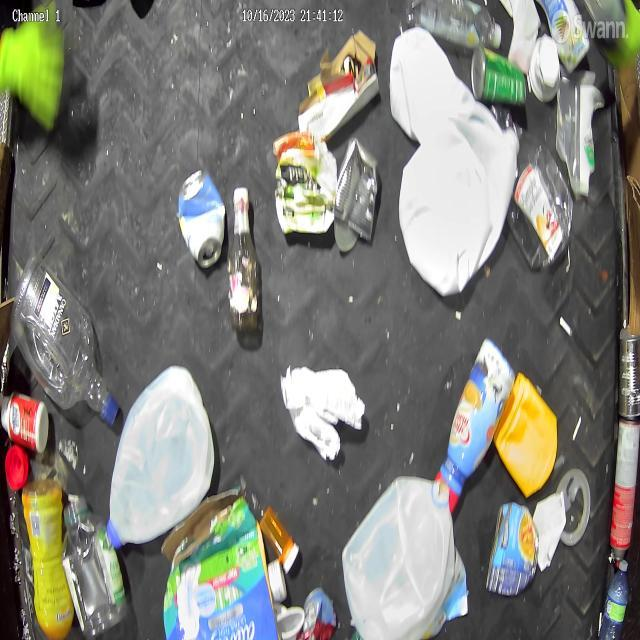can: (332, 136, 380, 256), (486, 502, 540, 597), (177, 167, 226, 269), (470, 45, 527, 106), (296, 586, 338, 640), (618, 326, 640, 416)
milk_jug: (398, 100, 520, 299), (106, 364, 216, 550), (340, 473, 455, 640), (390, 25, 474, 146)
plastic_bottle: (406, 0, 502, 52), (598, 561, 628, 640)
